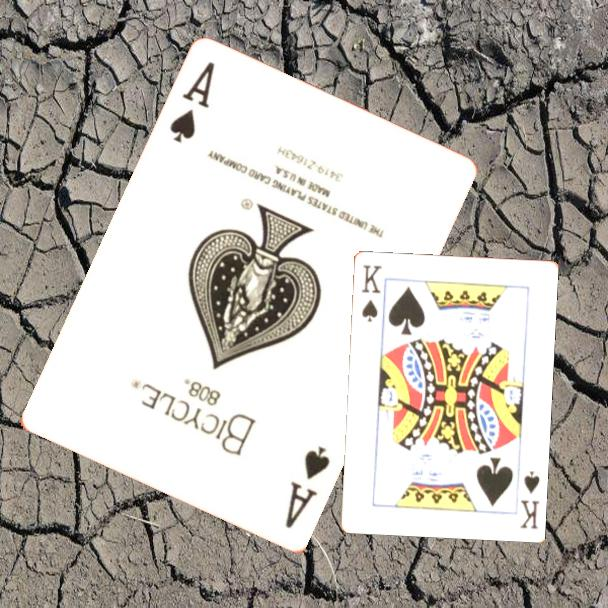s01: (281, 442, 334, 533), (166, 58, 218, 147)
s13: (358, 261, 384, 324), (516, 468, 542, 531)
